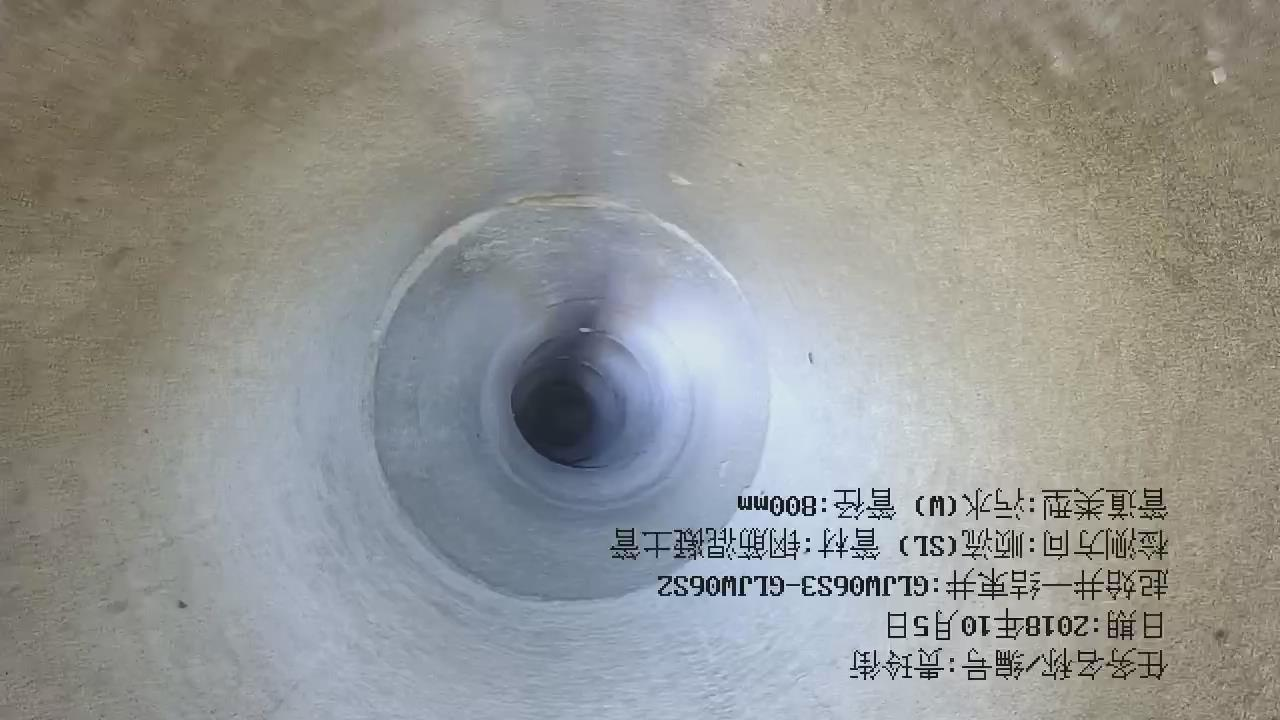CKTJ: (363, 196, 738, 420)
